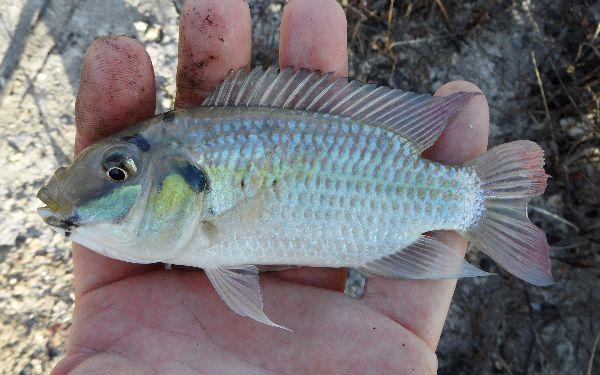Tilapia: (36, 65, 558, 332)
